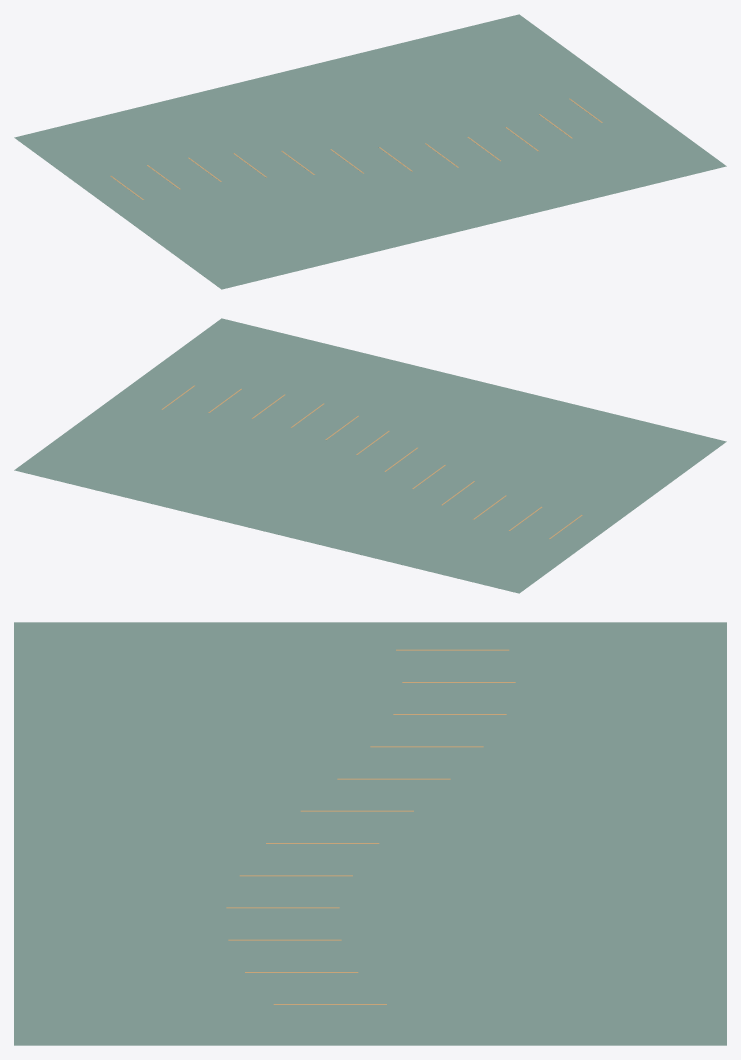
The model's file is 275_L119_L26_LayerReference.glb.
The picture shows the model from 3 angles, top to bottom: view 1: azimuth 30°, elevation 25°; view 2: azimuth 150°, elevation 25°; view 3: azimuth 270°, elevation 25°; orthographic projection. The views are drawn at different scales.
Parts seen in each view (by area): view 1: 0000__PSMAT__dielectric; view 2: 0000__PSMAT__dielectric; view 3: 0000__PSMAT__dielectric.
Part boxes in pixels (left/top/right/bottom): 0000__PSMAT__dielectric: left=14, top=14, right=726, bottom=289; 0000__PSMAT__dielectric: left=14, top=318, right=726, bottom=593; 0000__PSMAT__dielectric: left=14, top=622, right=726, bottom=1045.
Bounding box in the file's own units: 0.486 × 6.4e-05 × 0.346.
